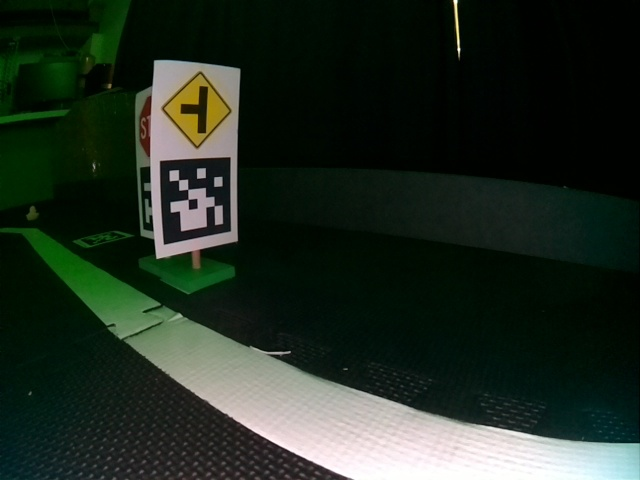Duckie: (27, 207, 37, 220)
Intersection sign: (161, 72, 235, 151)
QR code: (157, 157, 234, 246), (138, 172, 153, 237), (77, 230, 128, 248)
Stop sign: (137, 94, 154, 156)
